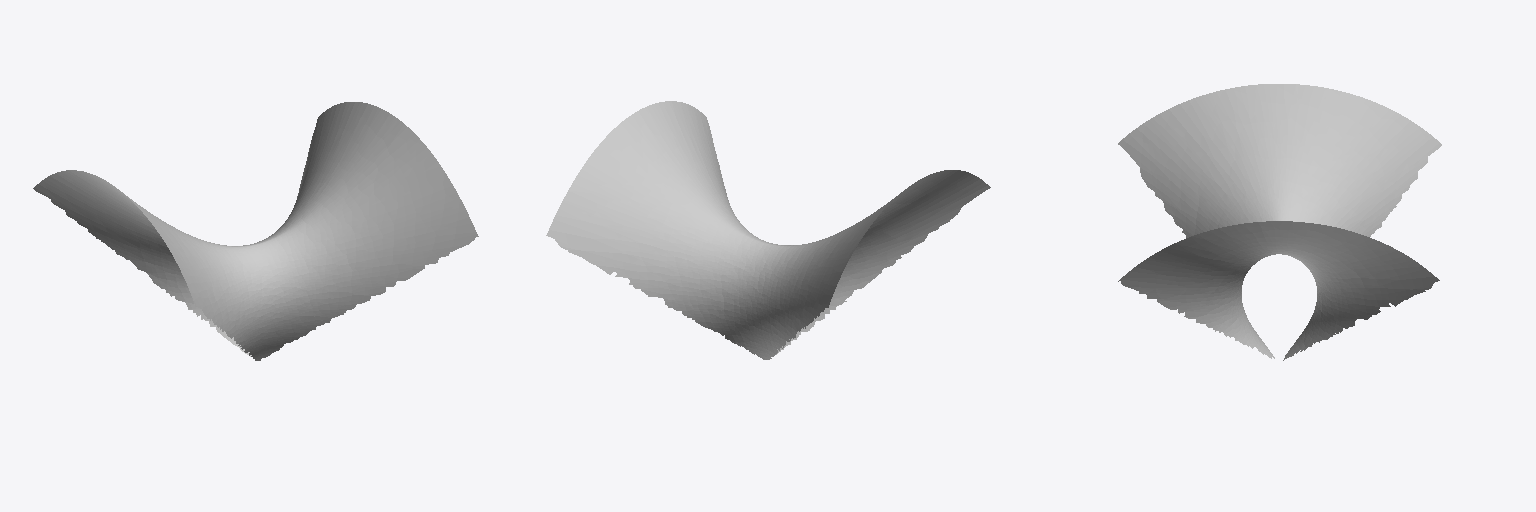
The model's file is test-manifold.obj.
3 renders of one model, left to right at view 1: azimuth 30°, elevation 25°; view 2: azimuth 150°, elevation 25°; view 3: azimuth 270°, elevation 25°, orthographic.
Parts seen in each view (by area): view 1: Icosphere; view 2: Icosphere; view 3: Icosphere.
Boxes of the visible parts, <box> form: Icosphere: <box>33,102,478,360</box>; Icosphere: <box>546,101,990,359</box>; Icosphere: <box>1118,84,1441,360</box>.
Size of the model in its own units: 30 by 20.96 by 29.8.